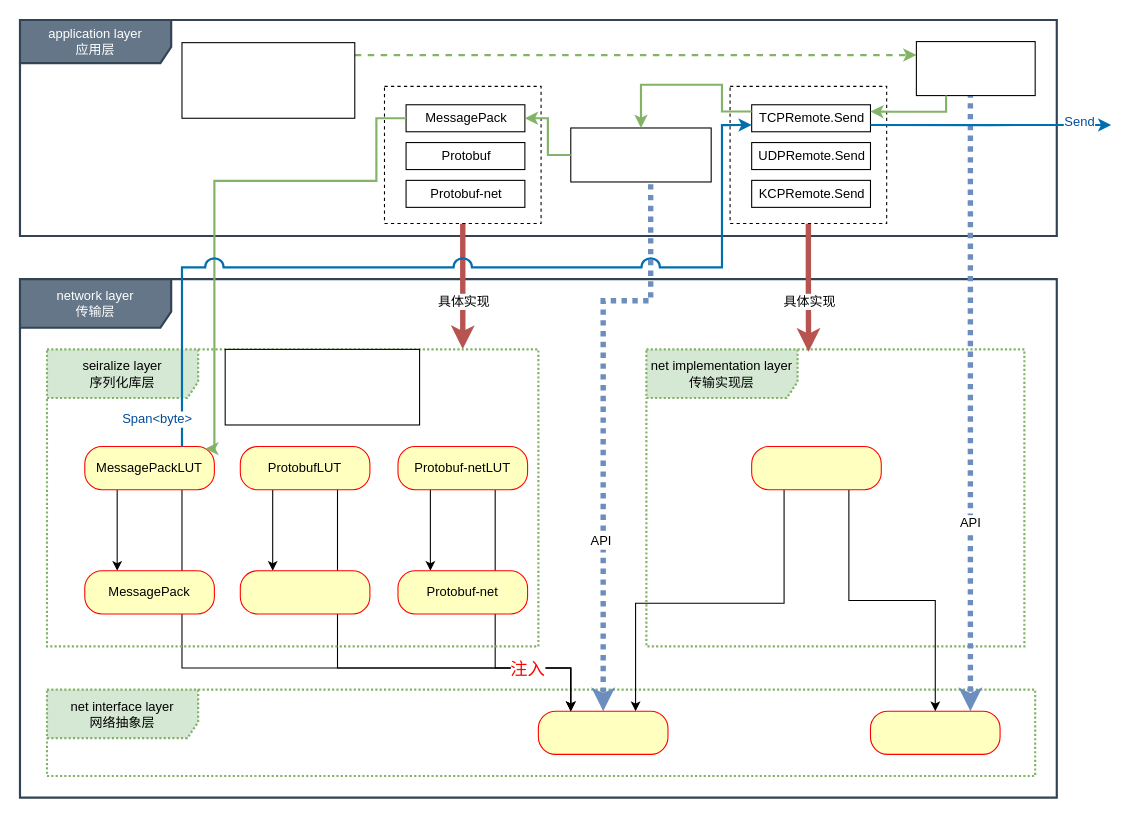
Image size: 1139x816. Some labels were removed from this diagram. The shapes that lost their labels are listed below. From the top down, each one's centre as x and y in pixels, then its label:
At pixel 268 80: "Object:Person field1 = name field2 = age".
At pixel 975 68: "Remote.Send".
At pixel 640 154: "MessageLut.Seiralize".
At pixel 322 386: "select a seiralizer lib 选择一个序列化库".
At pixel 816 468: "Megumin.Remote".
At pixel 304 592: "Google.Protobuf".
At pixel 602 732: "MessageStandard".
At pixel 934 732: "NetRemoteStandard".
